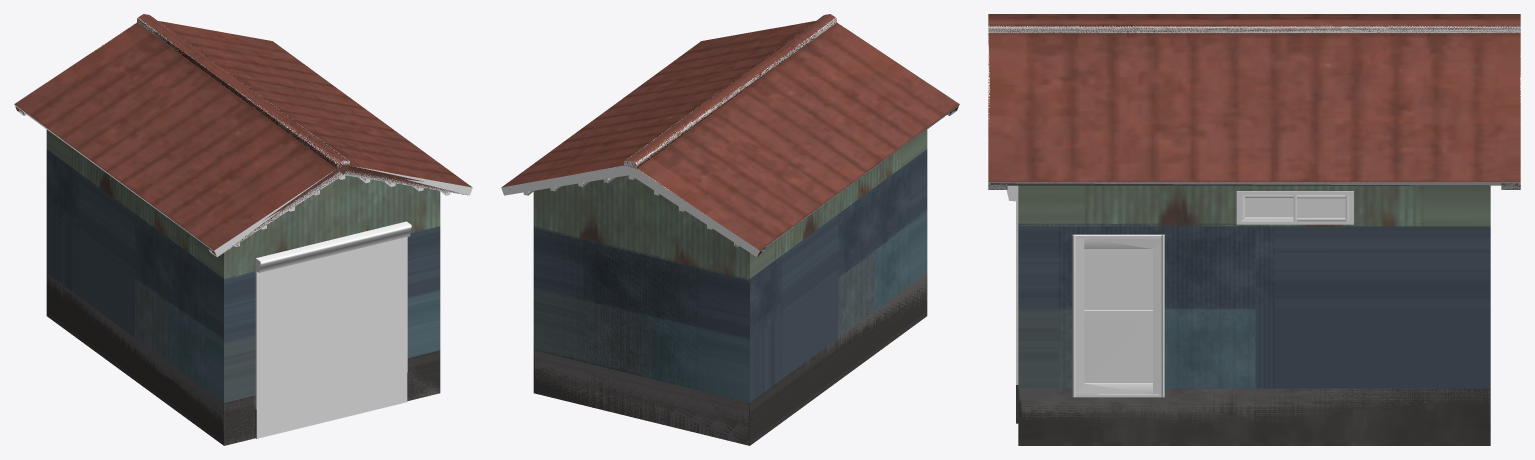
File: objects_un_dlc1_t10storage01.gltf
3 views of the same model, side by side, from view 1: azimuth 30°, elevation 25°; view 2: azimuth 150°, elevation 25°; view 3: azimuth 270°, elevation 25° (orthographic). The views are drawn at different scales.
Parts seen in each view (by area): view 1: um_objects_un_dlc1_t10storage01_model_lod2Shape:objects_un_d (×2), um_objects_un_dlc1_t10storage01_model_lod0Shape:objects_un_d (×4), um_objects_un_dlc1_t10storage01_model_lod1Shape:objects_un_d (×4), um_objects_un_dlc1_t10storage01_model_lod0Shape:shadow_mtl; view 2: um_objects_un_dlc1_t10storage01_model_lod1Shape:objects_un_d (×4), um_objects_un_dlc1_t10storage01_model_lod0Shape:objects_un_d (×3), um_objects_un_dlc1_t10storage01_model_lod2Shape:objects_un_d, um_objects_un_dlc1_t10storage01_model_lod0Shape:shadow_mtl; view 3: um_objects_un_dlc1_t10storage01_model_lod0Shape:objects_un_d (×6), um_objects_un_dlc1_t10storage01_model_lod1Shape:objects_un_d (×5), um_objects_un_dlc1_t10storage01_model_lod2Shape:objects_un_d, um_objects_un_dlc1_t10storage01_model_lod0Shape:shadow_mtl.
Part boxes in pixels (<box>): um_objects_un_dlc1_t10storage01_model_lod2Shape:objects_un_d (×2): <box>14,18,472,438</box>; um_objects_un_dlc1_t10storage01_model_lod0Shape:objects_un_d (×4): <box>46,129,440,445</box>; um_objects_un_dlc1_t10storage01_model_lod1Shape:objects_un_d (×4): <box>22,14,467,444</box>; um_objects_un_dlc1_t10storage01_model_lod0Shape:shadow_mtl: <box>14,15,472,256</box>; um_objects_un_dlc1_t10storage01_model_lod1Shape:objects_un_d (×4): <box>533,14,951,445</box>; um_objects_un_dlc1_t10storage01_model_lod0Shape:objects_un_d (×3): <box>533,129,927,445</box>; um_objects_un_dlc1_t10storage01_model_lod2Shape:objects_un_d: <box>501,19,959,256</box>; um_objects_un_dlc1_t10storage01_model_lod0Shape:shadow_mtl: <box>501,15,958,256</box>; um_objects_un_dlc1_t10storage01_model_lod0Shape:objects_un_d (×6): <box>1006,185,1490,445</box>; um_objects_un_dlc1_t10storage01_model_lod1Shape:objects_un_d (×5): <box>988,19,1520,442</box>; um_objects_un_dlc1_t10storage01_model_lod2Shape:objects_un_d: <box>988,14,1520,189</box>; um_objects_un_dlc1_t10storage01_model_lod0Shape:shadow_mtl: <box>988,25,1520,189</box>.
Size of the model in its own units: 4.62 by 4.57 by 6.19.
10 materials, 5 textured.
